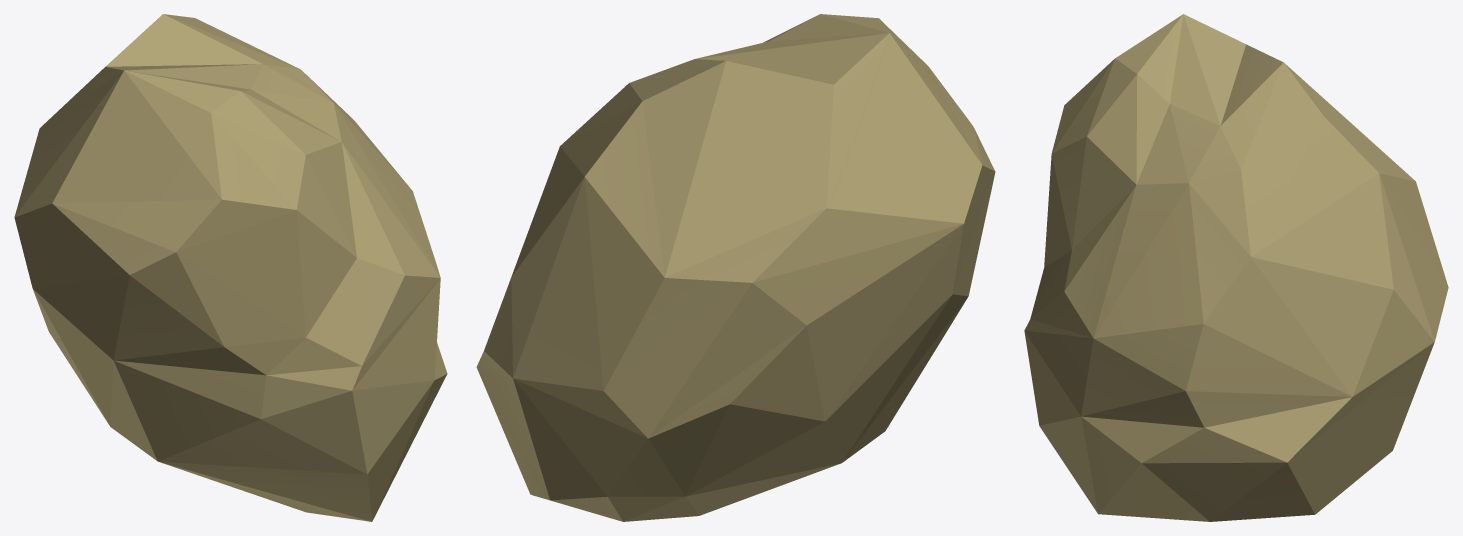
The model's file is SM_small_rock_61.fbx.
The picture shows the model from 3 angles, left to right: view 1: azimuth 30°, elevation 25°; view 2: azimuth 150°, elevation 25°; view 3: azimuth 270°, elevation 25°; orthographic projection. The views are drawn at different scales.
Visible parts, largest first — view 1: small_rock_61; view 2: small_rock_61; view 3: small_rock_61.
Part boxes in pixels (x1=…): small_rock_61: x1=14, y1=14, x2=447, y2=521; small_rock_61: x1=476, y1=14, x2=995, y2=521; small_rock_61: x1=1024, y1=14, x2=1448, y2=521.
Size of the model in its own units: 118 by 128 by 118.
